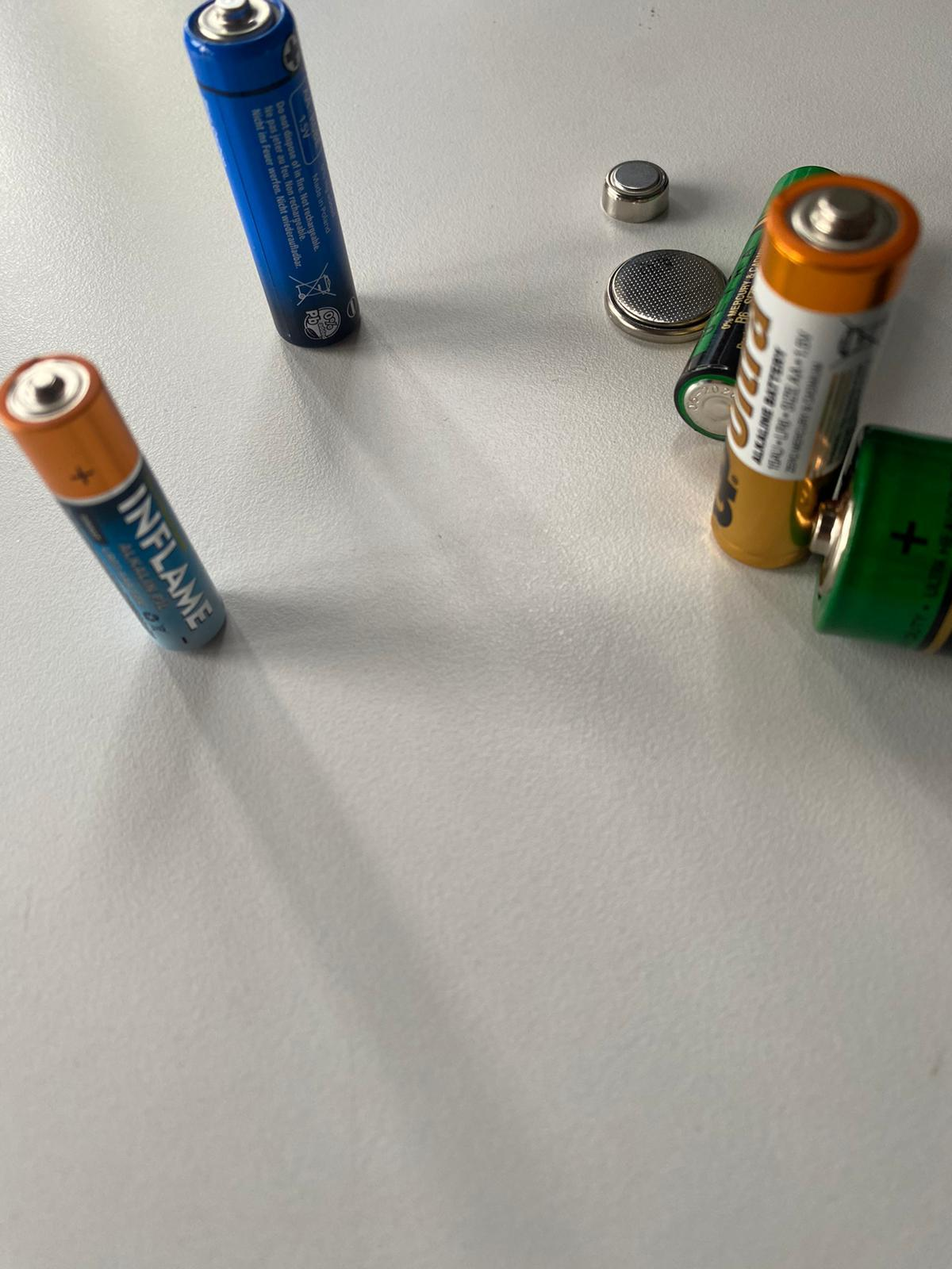AA: (180, 0, 361, 348)
AAA: (1, 351, 228, 653)
